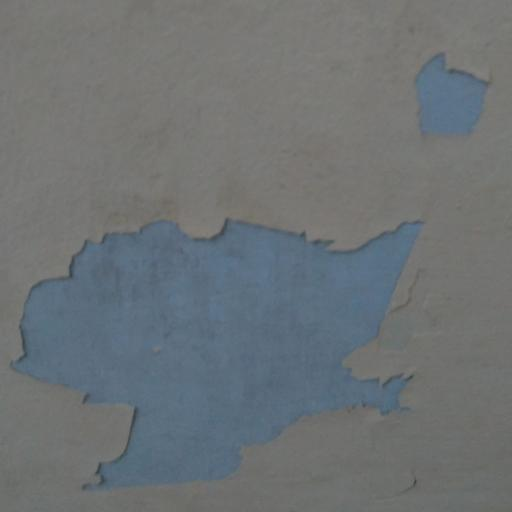peeling: (0, 198, 441, 502), (400, 46, 512, 152)
